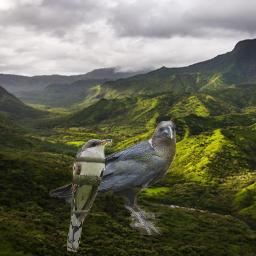Crow: (49, 121, 176, 235)
Cuckoo: (67, 139, 112, 252)
